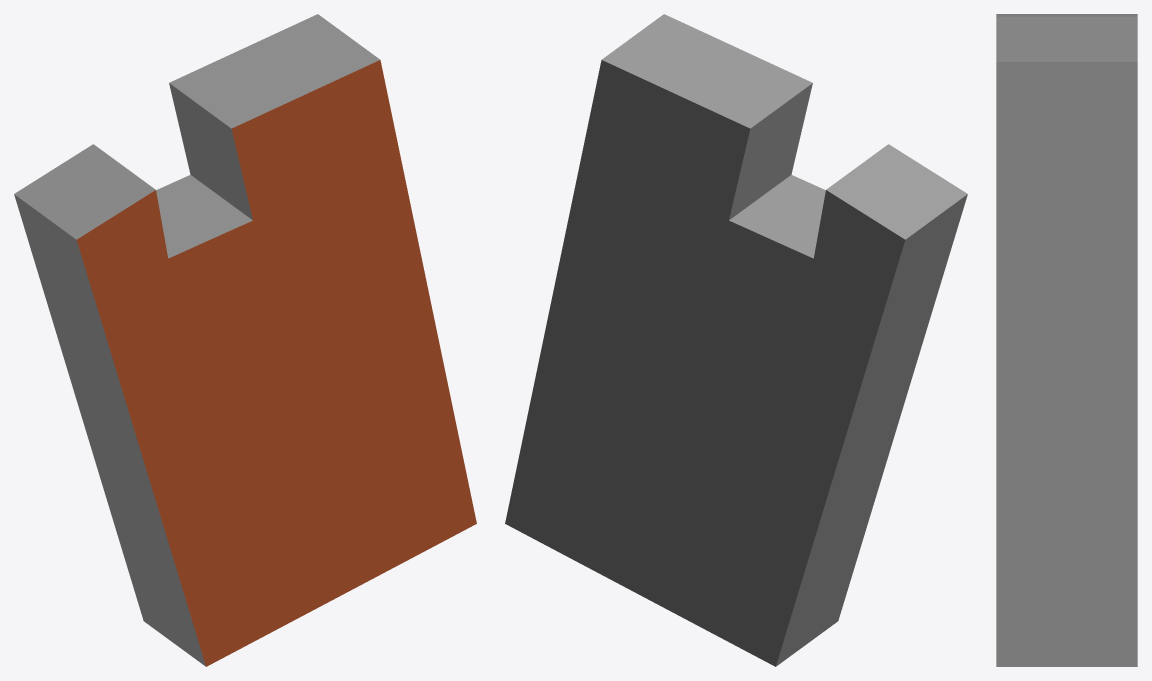
The model's file is construction_1484_assumed_A_Casa_h6m.obj.
3 views of the same model, side by side, from view 1: azimuth 30°, elevation 25°; view 2: azimuth 150°, elevation 25°; view 3: azimuth 270°, elevation 25° (orthographic). The views are drawn at different scales.
Parts seen in each view (by area): view 1: construction_1484_assumed_A_Casa; view 2: construction_1484_assumed_A_Casa; view 3: construction_1484_assumed_A_Casa.
Part boxes in pixels (x1,y1,x2,y2): construction_1484_assumed_A_Casa: (14,14,476,666); construction_1484_assumed_A_Casa: (505,14,967,666); construction_1484_assumed_A_Casa: (996,14,1137,666).
Bounding box in the file's own units: 22.17 × 29.88 × 6.
